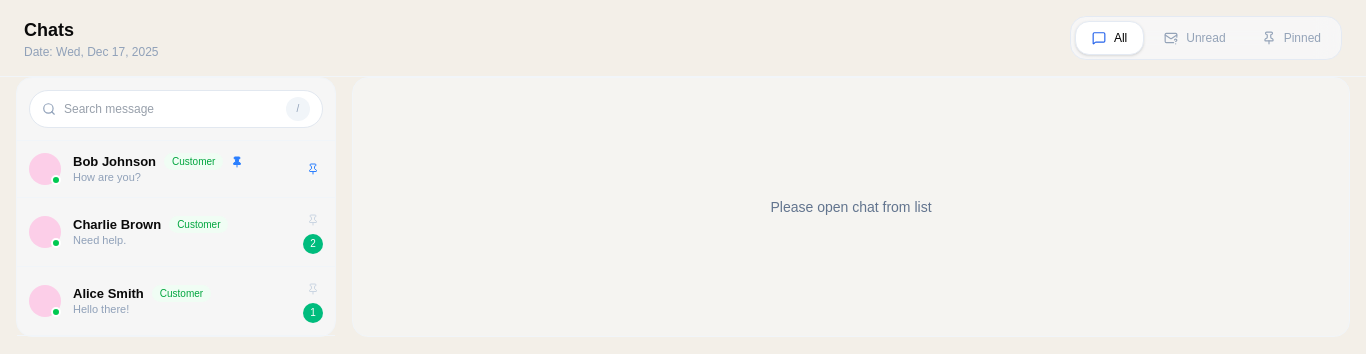
ChatsPage › filters chats by search query (email)
Expected: the text "Alice Smith" is shown, 73,285 -> 144,302
Expected: the text "Bob Johnson" is shown, 73,153 -> 156,170
Type "test.com" into the field with placeholder "Search message". click: (171, 109)
box: 64,101 -> 278,117
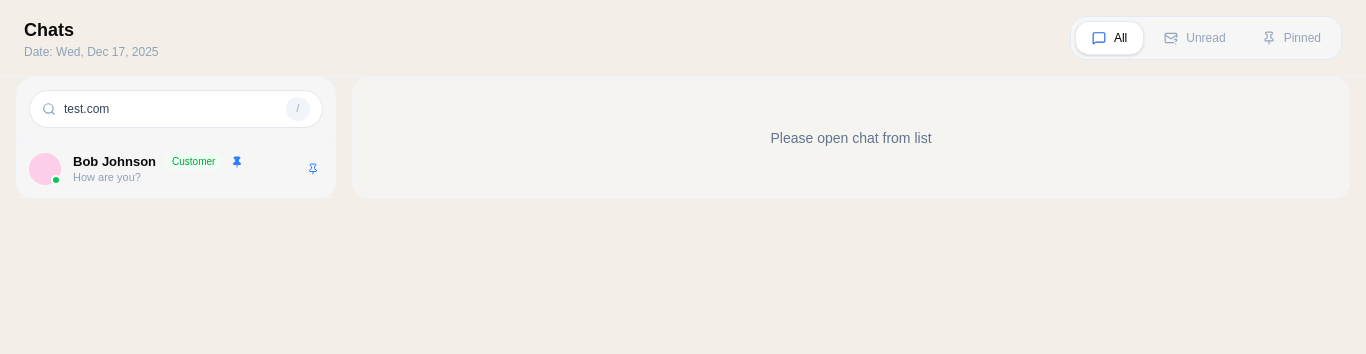
Expected: the text "Bob Johnson" is shown, 73,153 -> 156,170
Expected: the text "Alice Smith" is gone
Expected: the text "Charlie Brown" is gone
